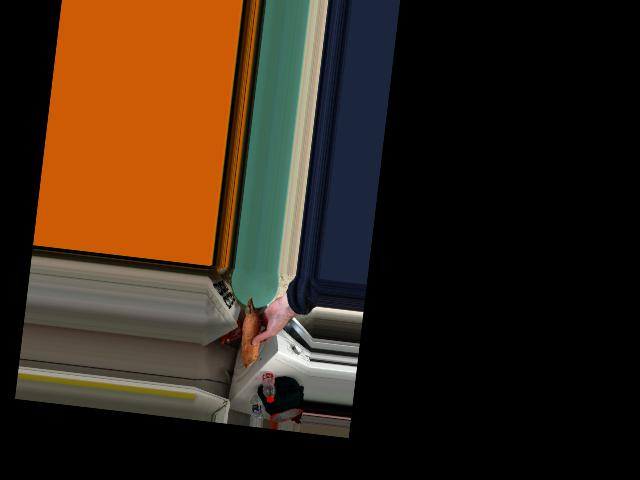sweet_potato: (239, 298, 269, 360)
